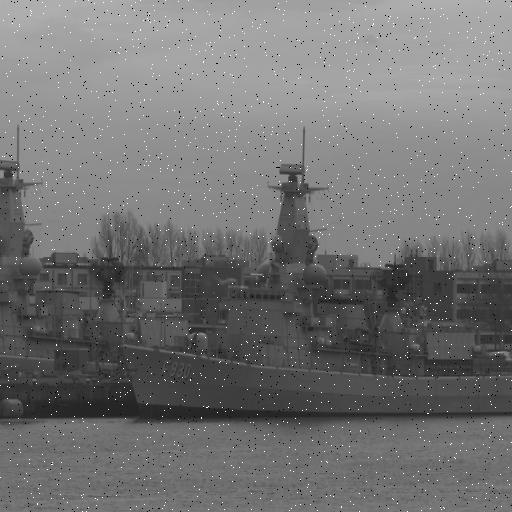Fragata: (118, 165, 512, 430)
